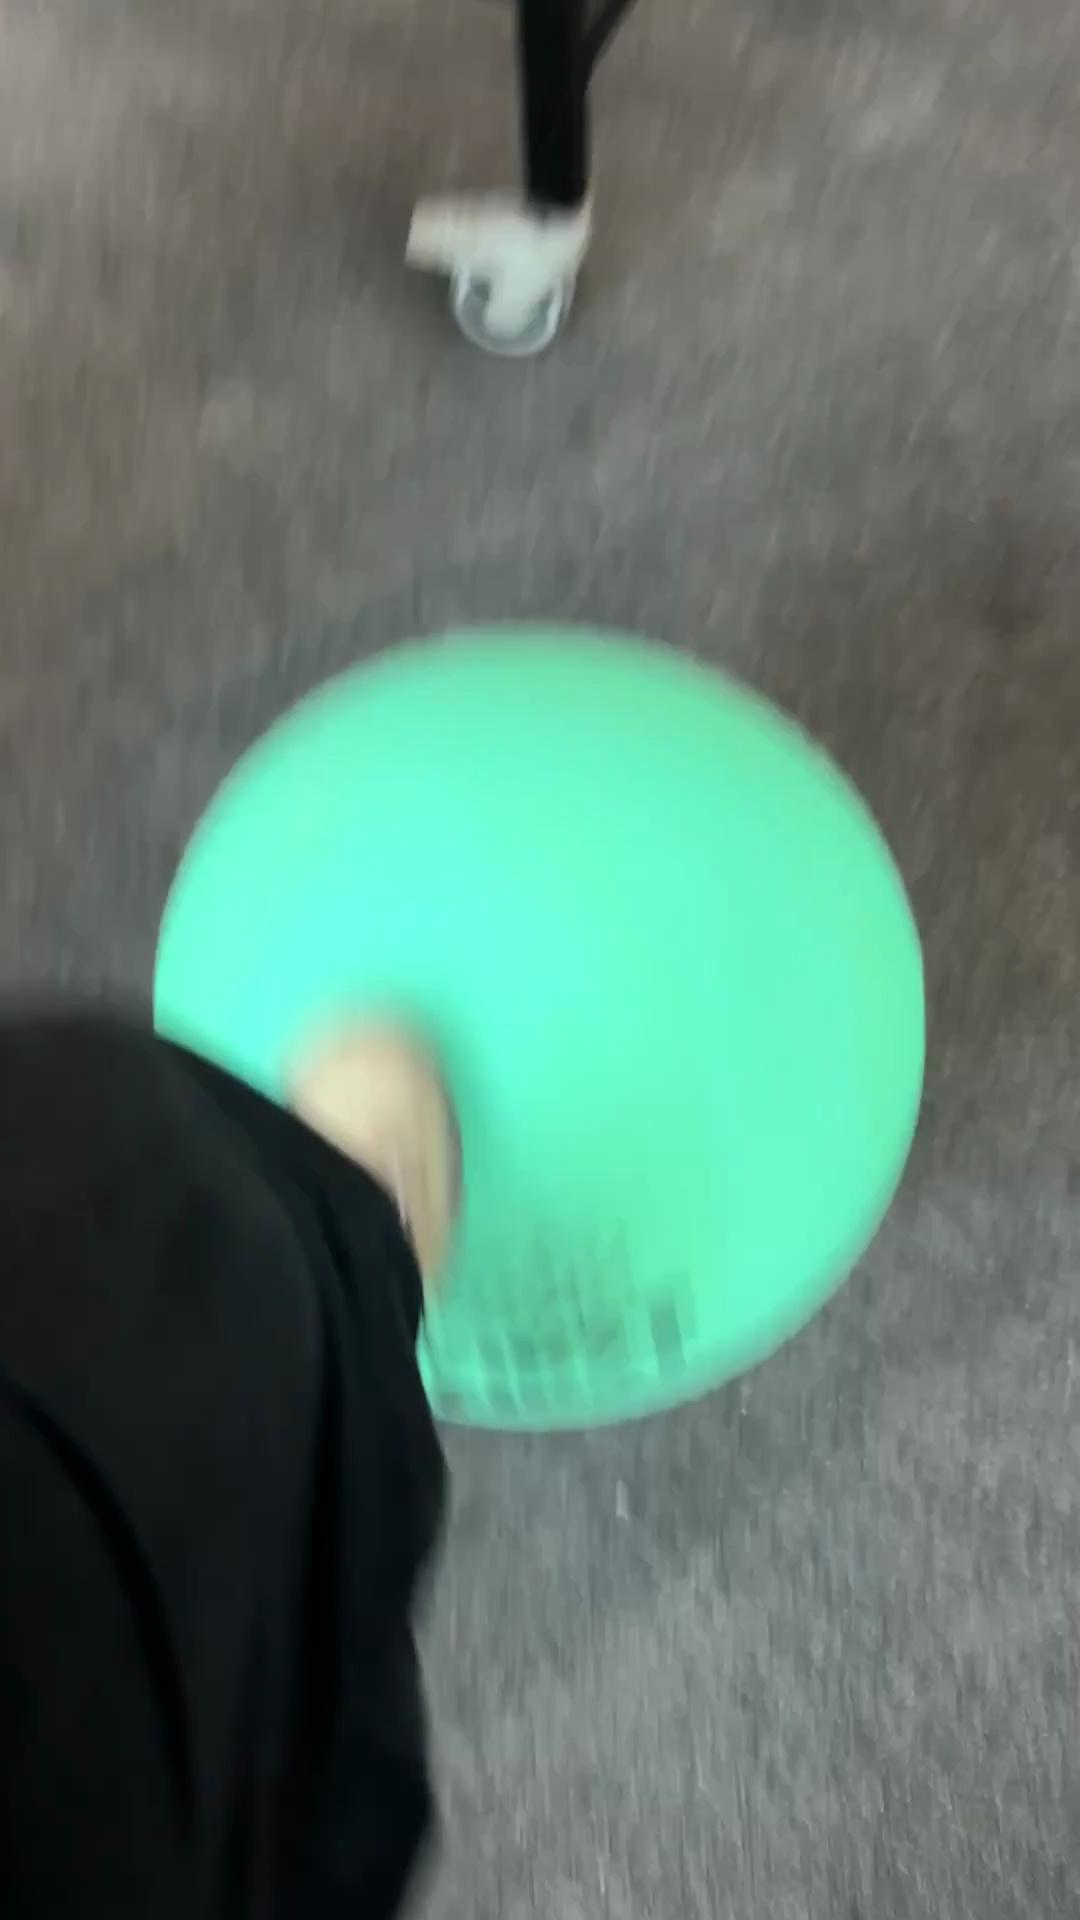ALGAE: (148, 617, 929, 1434)
